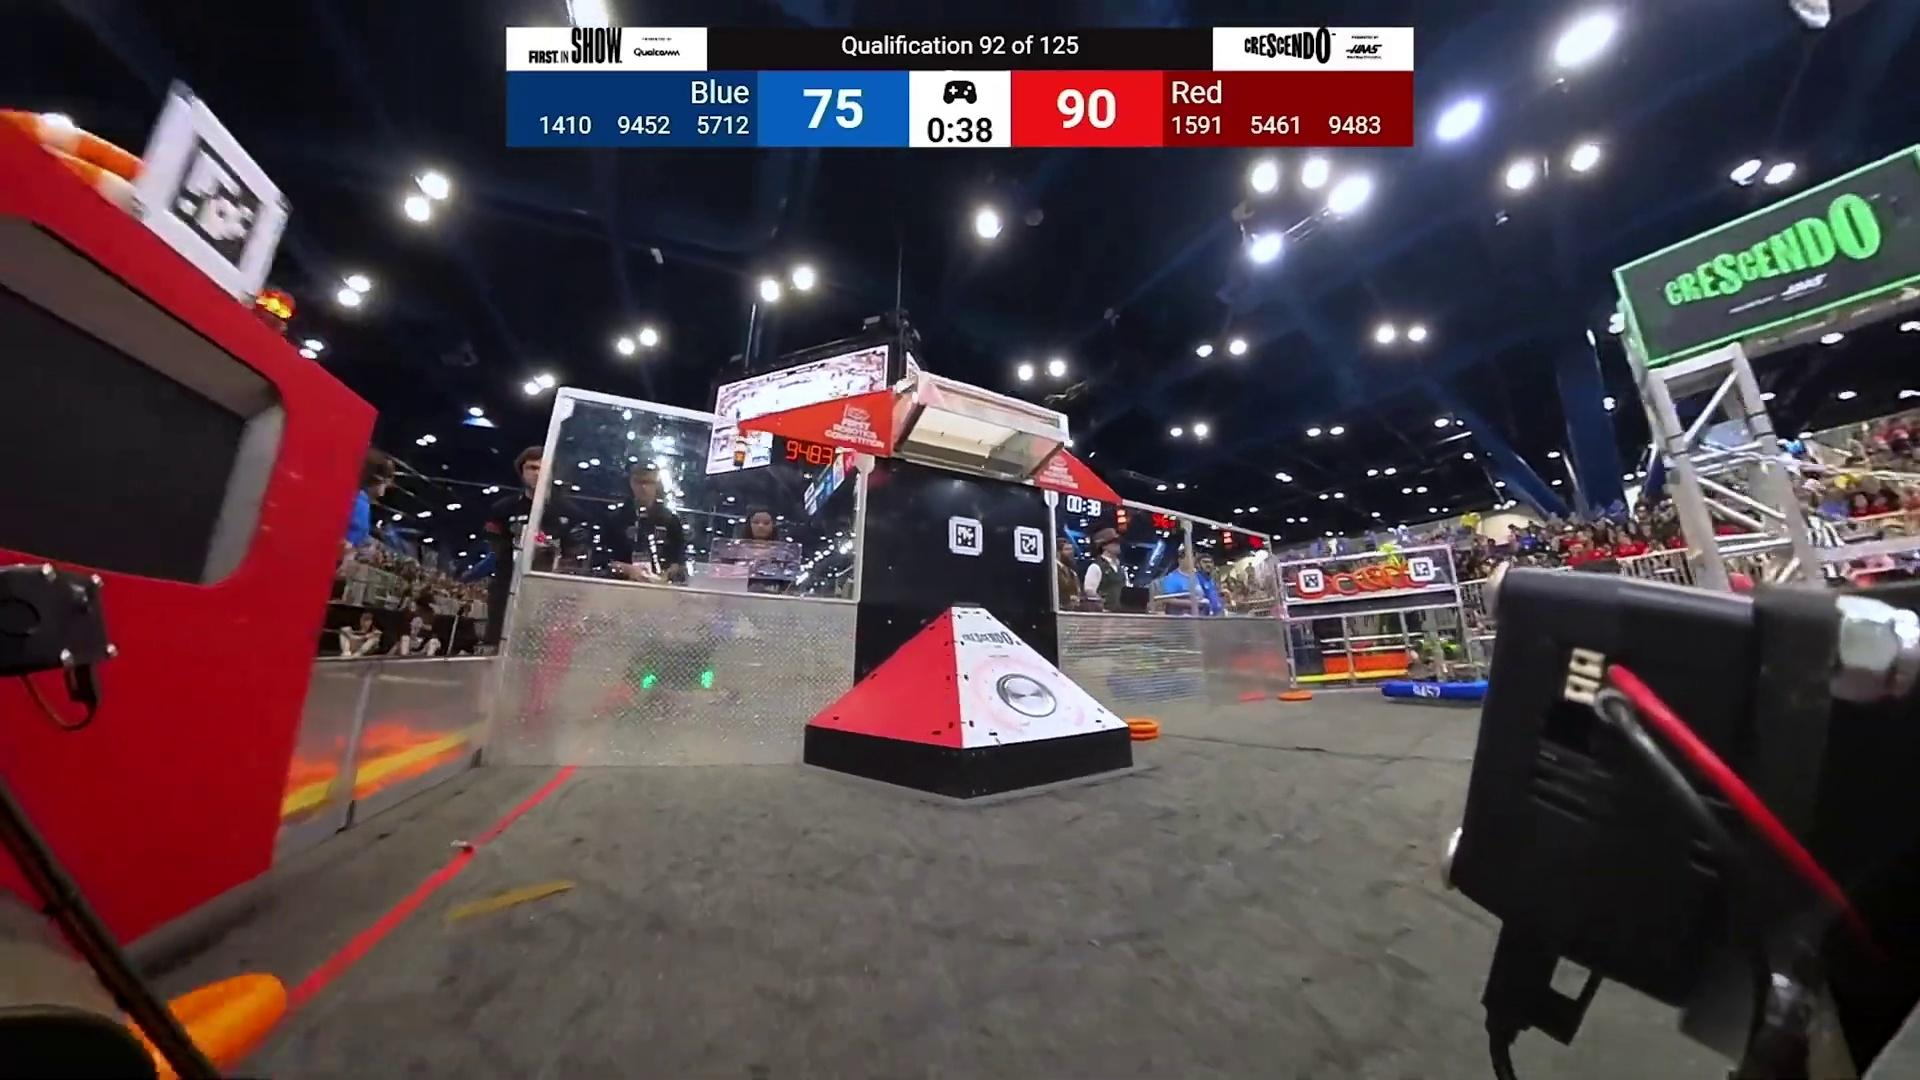robot: (1381, 632, 1490, 704)
